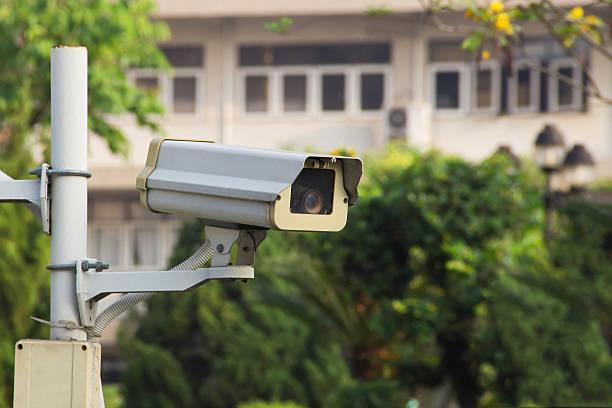camera: (126, 110, 378, 272)
